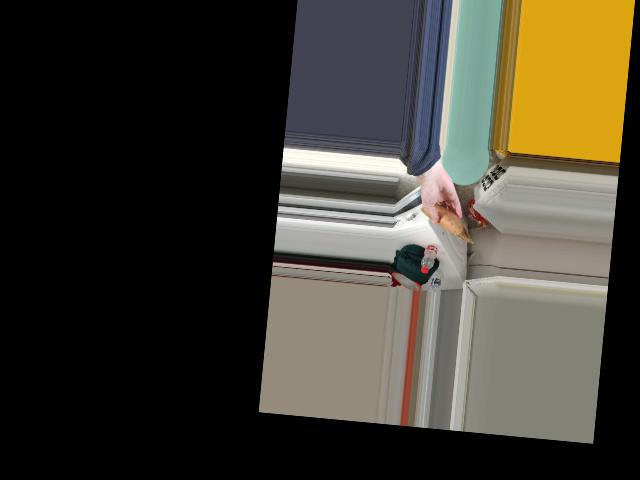sweet_potato: (427, 204, 463, 233)
